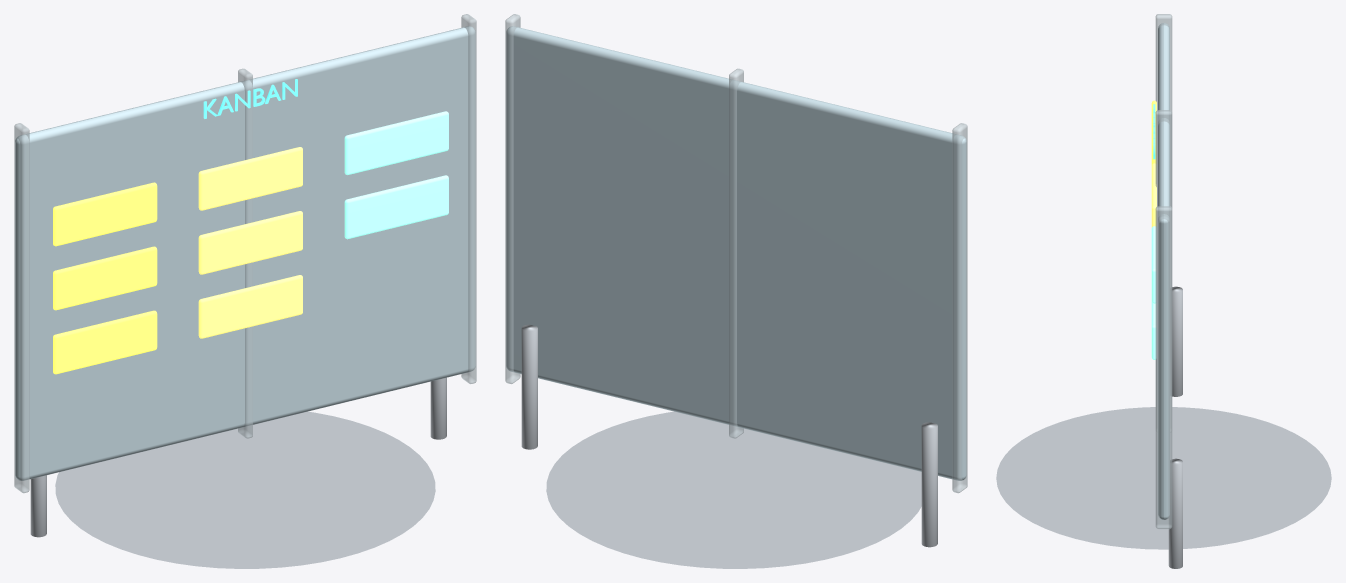
File: kanban.glb
The picture shows the model from 3 angles, left to right: view 1: azimuth 30°, elevation 25°; view 2: azimuth 150°, elevation 25°; view 3: azimuth 270°, elevation 25°; orthographic projection. The views are drawn at different scales.
Visible parts, largest first — view 1: kanban_glass_panel, kanban_contact_shadow, kanban_edge_-0.95, kanban_card_2_1, kanban_card_0_0, kanban_card_0_2, kanban_card_0_1, kanban_card_2_0, kanban_card_1_0, kanban_card_1_1, kanban_card_1_2, kanban_edge_0.95 (+4 smaller); view 2: kanban_glass_panel, kanban_contact_shadow, kanban_edge_-0.95, kanban_edge_0.95, kanban_edge_0, kanban_leg_0.85, kanban_leg_-0.85; view 3: kanban_contact_shadow, kanban_glass_panel, kanban_edge_0.95, kanban_leg_0.85, kanban_edge_0, kanban_leg_-0.85, kanban_edge_-0.95, kanban_card_2_0.
Boxes of the visible parts, box(x1,y1,x2,y2) form: kanban_glass_panel: box(15, 26, 475, 480); kanban_contact_shadow: box(55, 412, 435, 568); kanban_edge_-0.95: box(14, 123, 29, 493); kanban_card_2_1: box(344, 175, 448, 239); kanban_card_0_0: box(53, 182, 157, 246); kanban_card_0_2: box(53, 310, 157, 374); kanban_card_0_1: box(53, 246, 157, 310); kanban_card_2_0: box(344, 111, 448, 174); kanban_card_1_0: box(198, 147, 302, 210); kanban_card_1_1: box(198, 211, 302, 274); kanban_card_1_2: box(198, 275, 302, 338); kanban_edge_0.95: box(461, 14, 476, 384); kanban_glass_panel: box(506, 26, 966, 480); kanban_contact_shadow: box(546, 412, 921, 568); kanban_edge_-0.95: box(952, 123, 967, 493); kanban_edge_0.95: box(505, 14, 520, 384); kanban_edge_0: box(729, 68, 743, 438); kanban_leg_0.85: box(521, 324, 537, 449); kanban_leg_-0.85: box(921, 422, 937, 547); kanban_contact_shadow: box(996, 407, 1331, 549); kanban_glass_panel: box(1158, 23, 1169, 519); kanban_edge_0.95: box(1155, 206, 1172, 529); kanban_leg_0.85: box(1168, 458, 1182, 568); kanban_edge_0: box(1155, 110, 1172, 432); kanban_leg_-0.85: box(1172, 286, 1182, 396); kanban_edge_-0.95: box(1155, 14, 1172, 206); kanban_card_2_0: box(1151, 226, 1156, 303).
Size of the model in its own units: 1.95 by 1.7 by 1.4.
